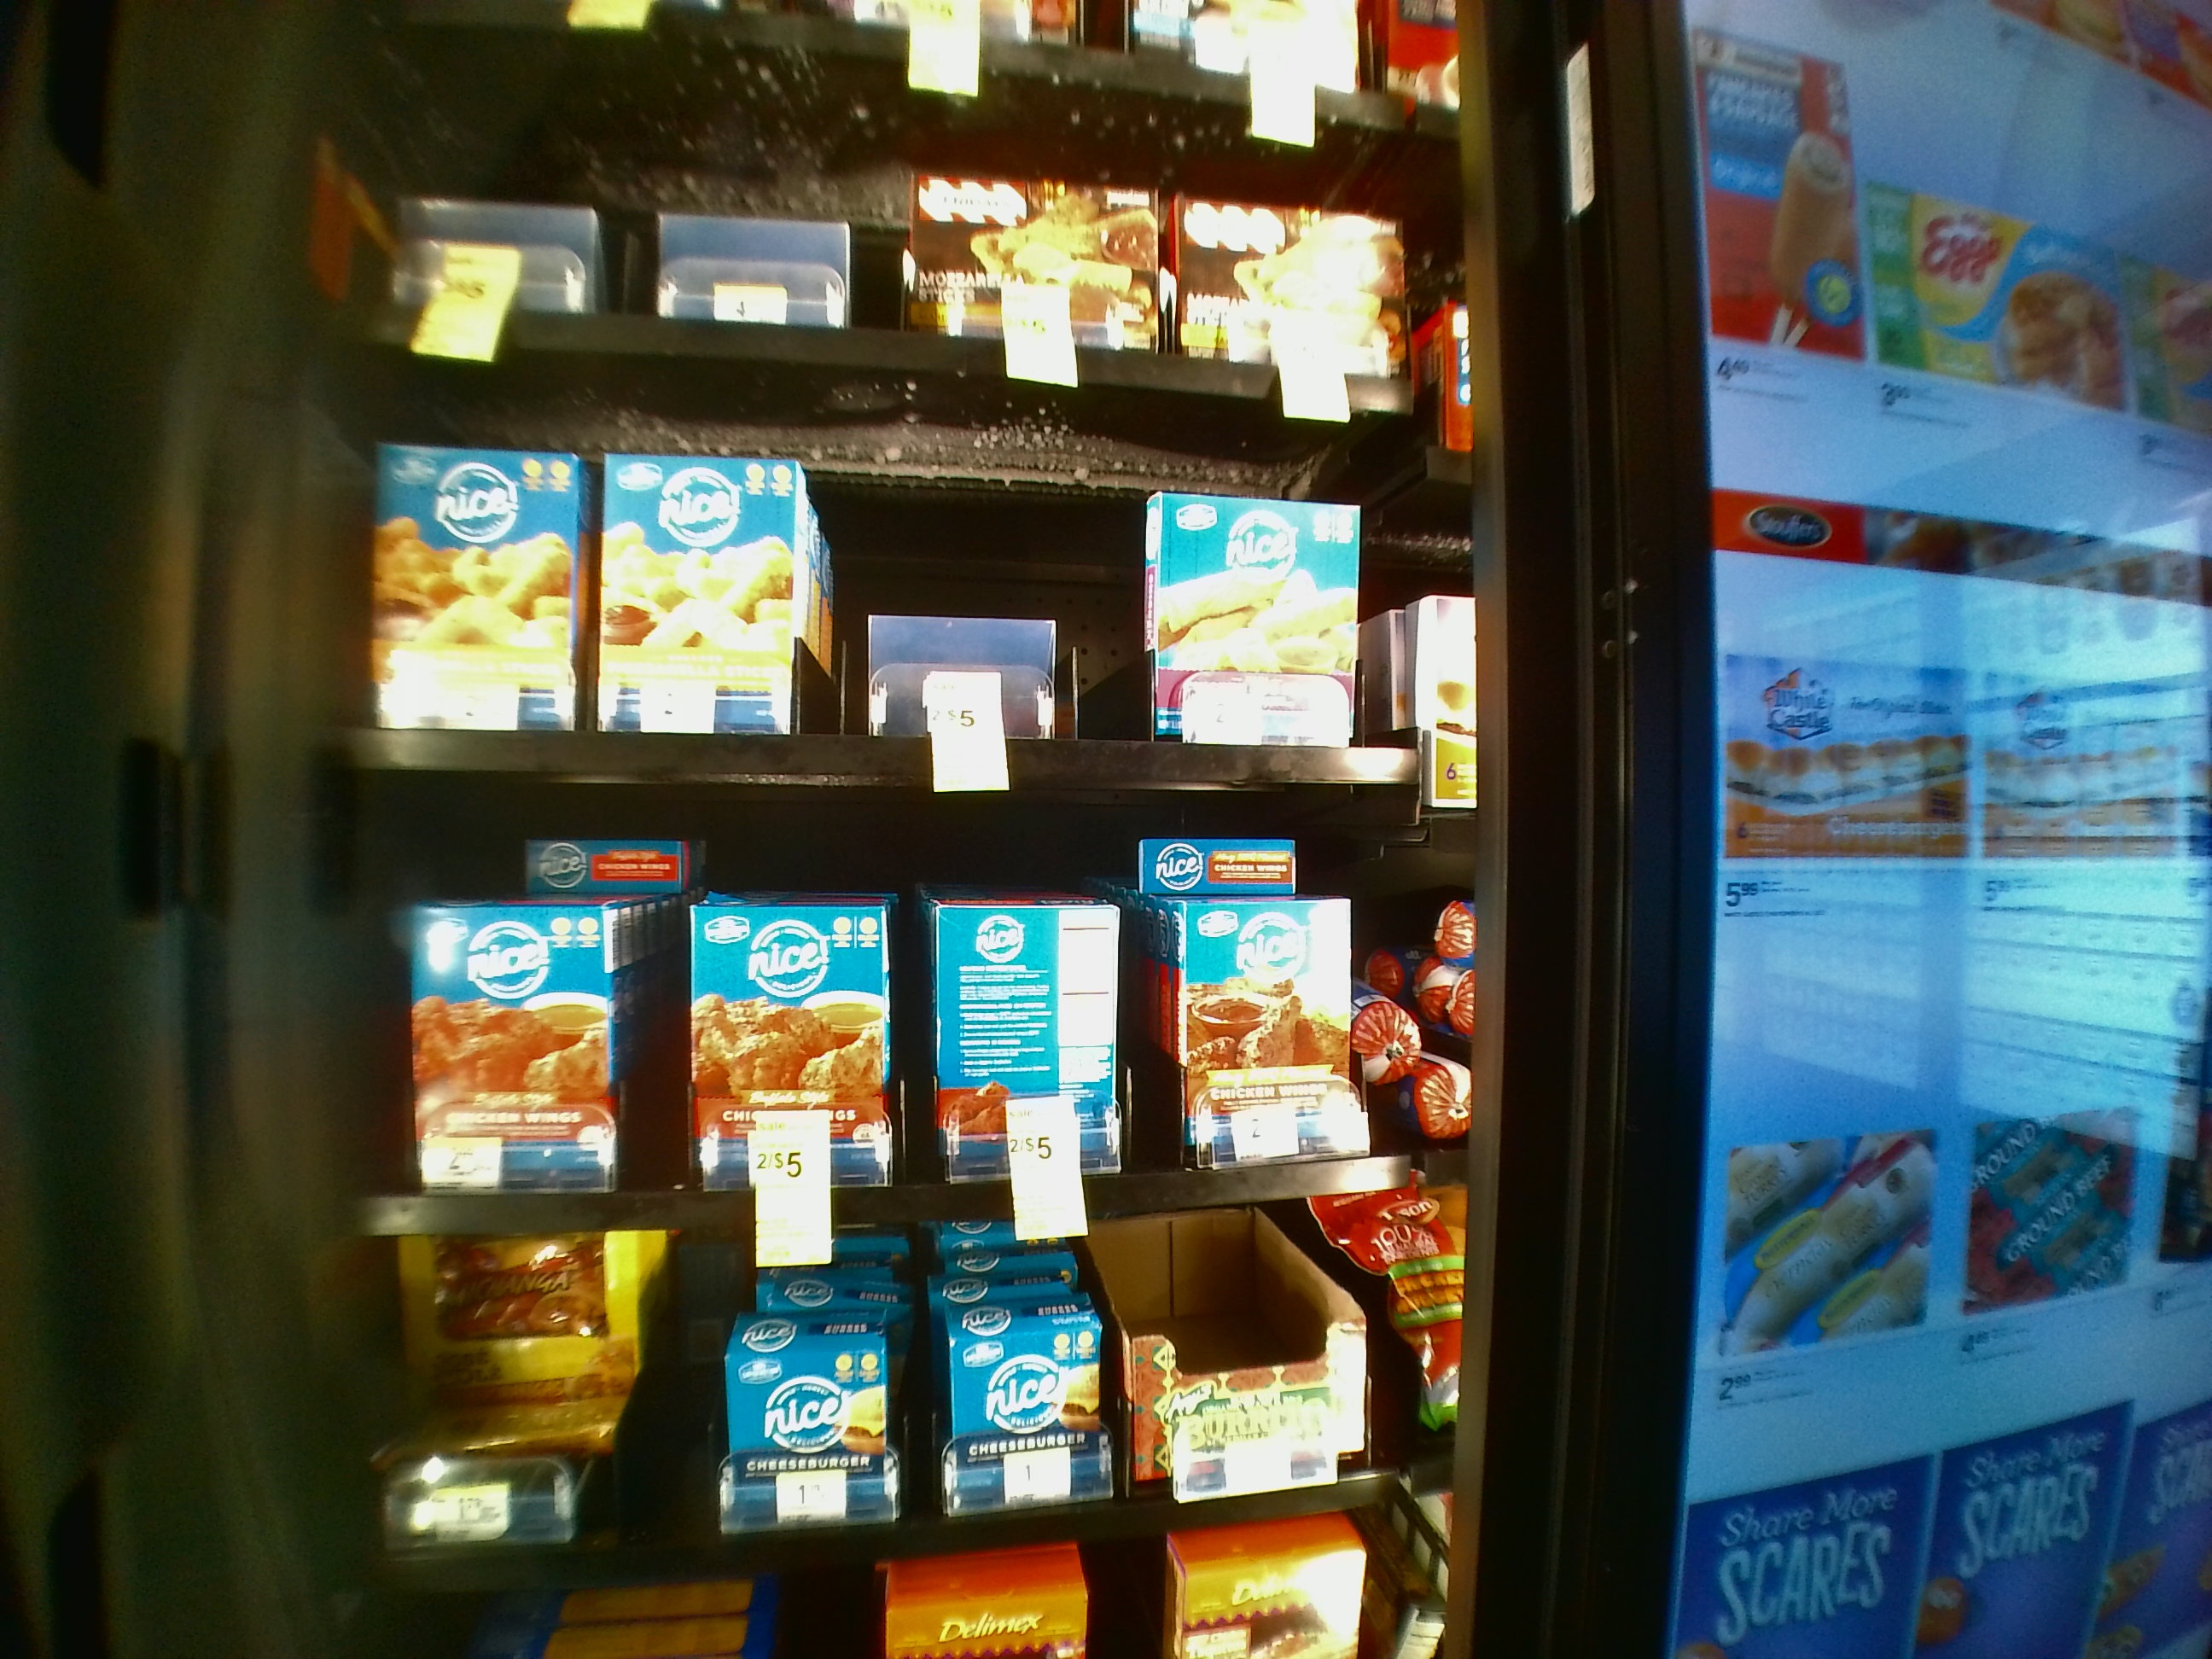shelf: (326, 357, 1470, 788), (326, 798, 1463, 1229)
